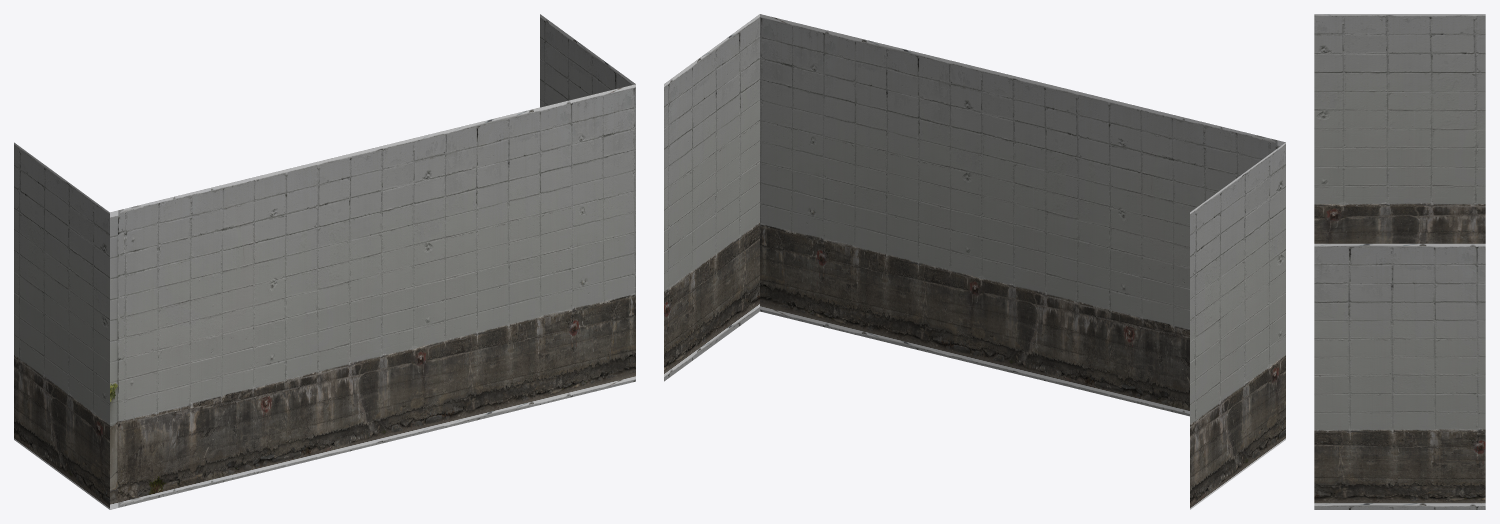
File: precinct_wall.FBX
The picture shows the model from 3 angles, left to right: view 1: azimuth 30°, elevation 25°; view 2: azimuth 150°, elevation 25°; view 3: azimuth 270°, elevation 25°; orthographic projection. The views are drawn at different scales.
Parts seen in each view (by area): view 1: precinct_wall; view 2: precinct_wall; view 3: precinct_wall.
Boxes of the visible parts, bbox=[...] form: precinct_wall: bbox=[14, 14, 635, 509]; precinct_wall: bbox=[664, 14, 1285, 509]; precinct_wall: bbox=[1314, 14, 1485, 509].
Size of the model in its own units: 403 by 218 by 127.
